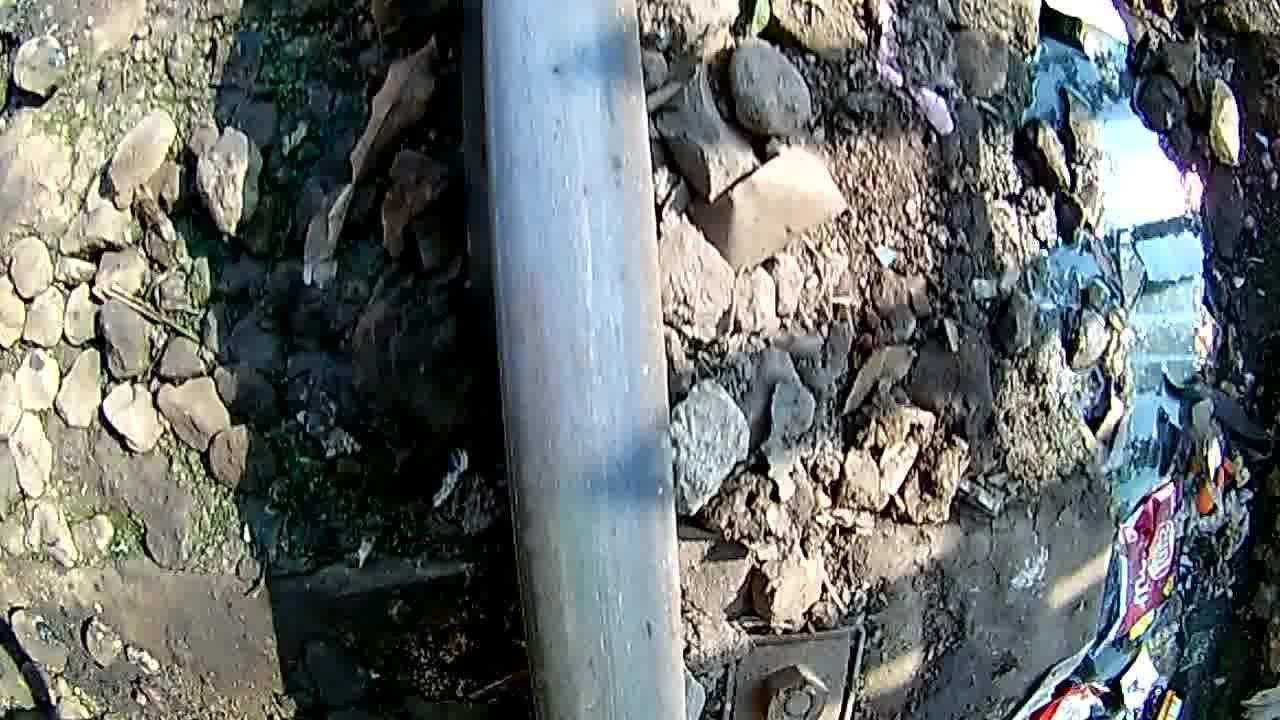crack: (481, 1, 682, 720)
